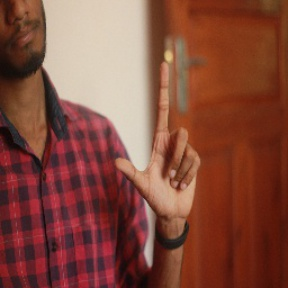L: (113, 63, 210, 219)
